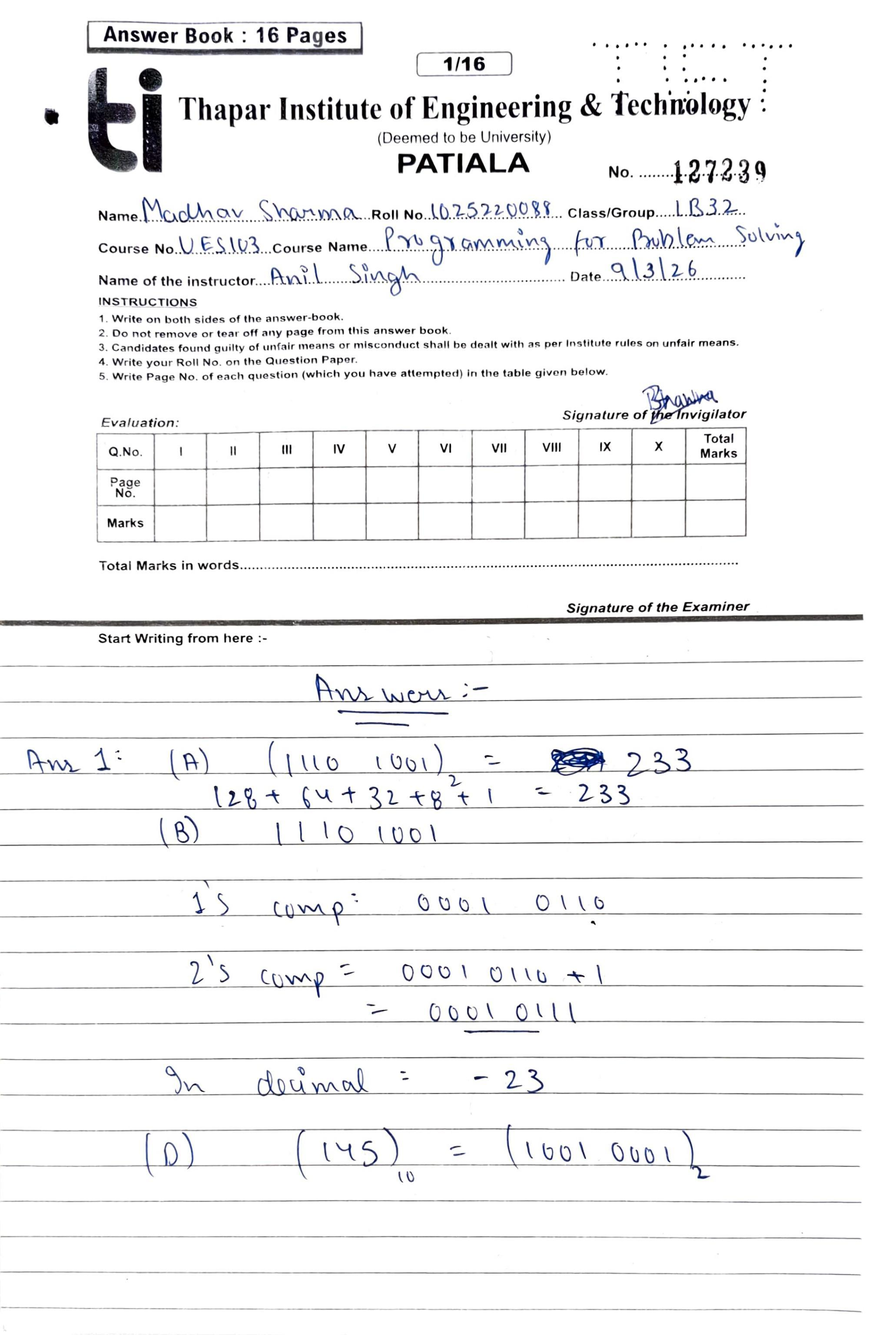cuttings: (548, 746, 607, 778)
